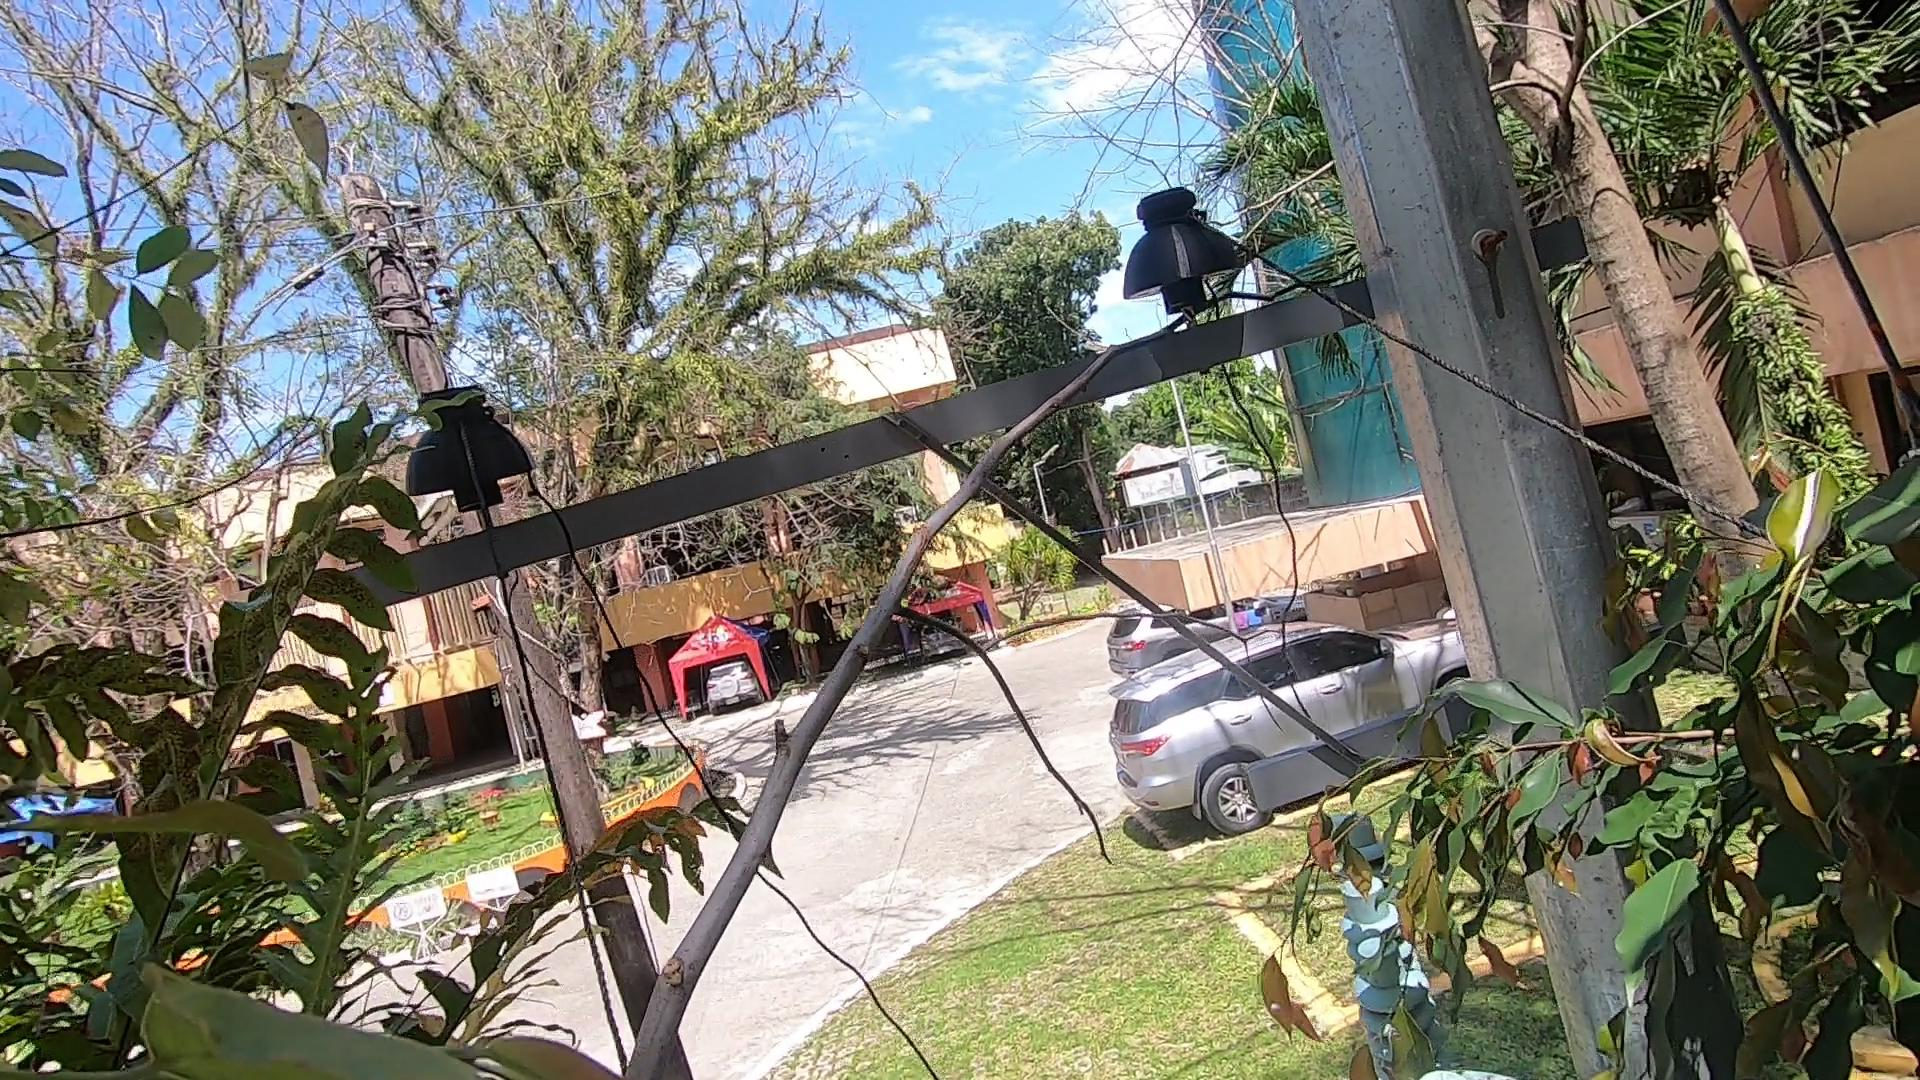branch with leaves: (1164, 628, 1659, 1080)
tree branch: (582, 262, 1269, 1080)
